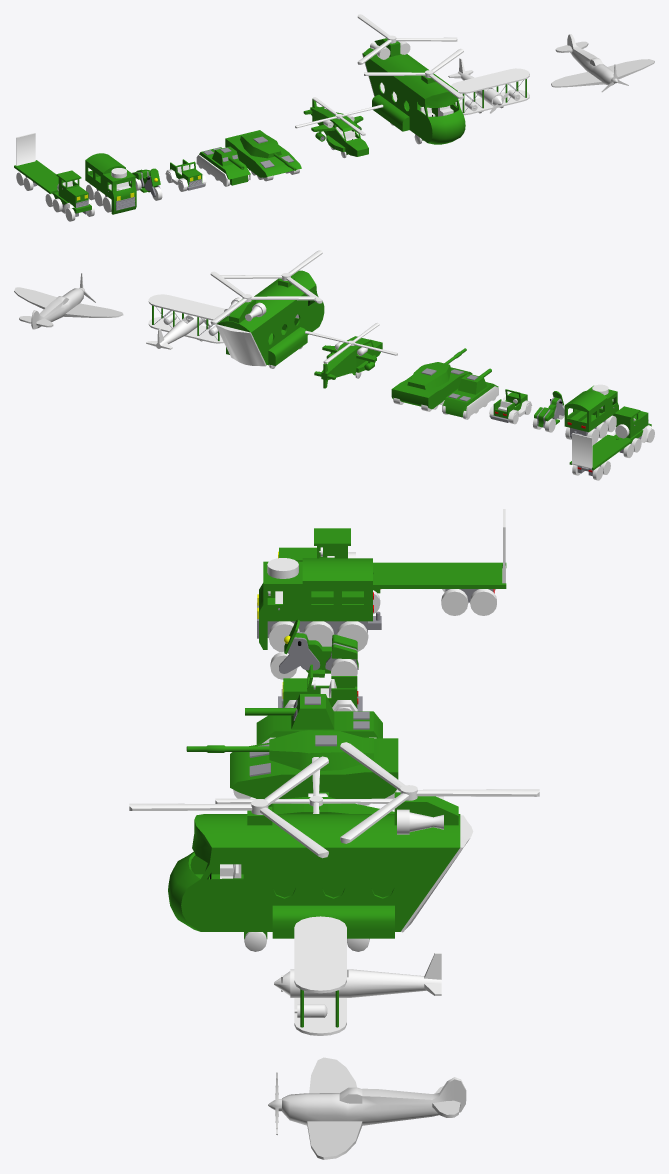
The model's file is Vehicles_low.fbx.
3 views of the same model, one above another, from view 1: azimuth 30°, elevation 25°; view 2: azimuth 150°, elevation 25°; view 3: azimuth 270°, elevation 25° (orthographic). The views are drawn at different scales.
Parts seen in each view (by area): view 1: Chinook_low, BiPlane_low, Spitfire_low, ArmyTruck_low, AttackHelicopter_low, HeavyTank_low, FlatbedTruck_low, HeavyTank_Turret_low, FlatbedTruck_Trailor_low, Chinook_Prop_Rear_low, Chinook_Prop_Front_low, LightTank_low (+6 smaller); view 2: Chinook_low, BiPlane_low, Spitfire_low, ArmyTruck_low, AttackHelicopter_low, HeavyTank_low, Chinook_Hatch_low, HeavyTank_Turret_low, FlatbedTruck_Trailor_low, Chinook_Prop_Rear_low, FlatbedTruck_low, LightTank_low (+7 smaller); view 3: Chinook_low, Spitfire_low, BiPlane_low, ArmyTruck_low, HeavyTank_low, FlatbedTruck_Trailor_low, HeavyTank_Turret_low, Chinook_Prop_Rear_low, Chinook_Prop_Front_low, LightTank_low, LightTank_Turret_low, Jeep_low (+5 smaller).
Part boxes in pixels (x1,y1,x2,y2): Chinook_low: [363, 38, 465, 144]; BiPlane_low: [448, 58, 529, 115]; Spitfire_low: [551, 34, 654, 87]; ArmyTruck_low: [85, 153, 136, 214]; AttackHelicopter_low: [303, 99, 368, 156]; HeavyTank_low: [225, 130, 301, 177]; FlatbedTruck_low: [52, 170, 91, 216]; HeavyTank_Turret_low: [240, 132, 296, 170]; FlatbedTruck_Trailor_low: [14, 160, 58, 193]; Chinook_Prop_Rear_low: [357, 14, 457, 64]; Chinook_Prop_Front_low: [364, 48, 463, 99]; LightTank_low: [199, 147, 250, 185]; Chinook_low: [216, 270, 324, 365]; BiPlane_low: [146, 294, 226, 349]; Spitfire_low: [14, 287, 123, 329]; ArmyTruck_low: [564, 385, 618, 438]; AttackHelicopter_low: [314, 336, 382, 388]; HeavyTank_low: [391, 367, 472, 409]; Chinook_Hatch_low: [215, 324, 266, 366]; HeavyTank_Turret_low: [407, 348, 466, 389]; FlatbedTruck_Trailor_low: [569, 434, 631, 475]; Chinook_Prop_Rear_low: [210, 271, 315, 324]; FlatbedTruck_low: [614, 406, 651, 453]; LightTank_low: [442, 382, 498, 417]; Chinook_low: [168, 792, 460, 939]; Spitfire_low: [282, 1057, 466, 1159]; BiPlane_low: [290, 916, 441, 1035]; ArmyTruck_low: [257, 558, 381, 649]; HeavyTank_low: [230, 738, 398, 798]; FlatbedTruck_Trailor_low: [373, 562, 506, 602]; HeavyTank_Turret_low: [186, 730, 373, 770]; Chinook_Prop_Rear_low: [340, 742, 539, 843]; Chinook_Prop_Front_low: [129, 756, 328, 858]; LightTank_low: [256, 711, 382, 744]; LightTank_Turret_low: [245, 694, 334, 729]; Jeep_low: [278, 664, 362, 711].
Bounding box in the file's own units: 157 × 18.91 × 46.73.
